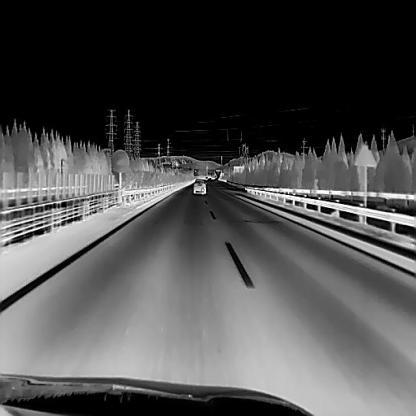car: (193, 178, 206, 193)
